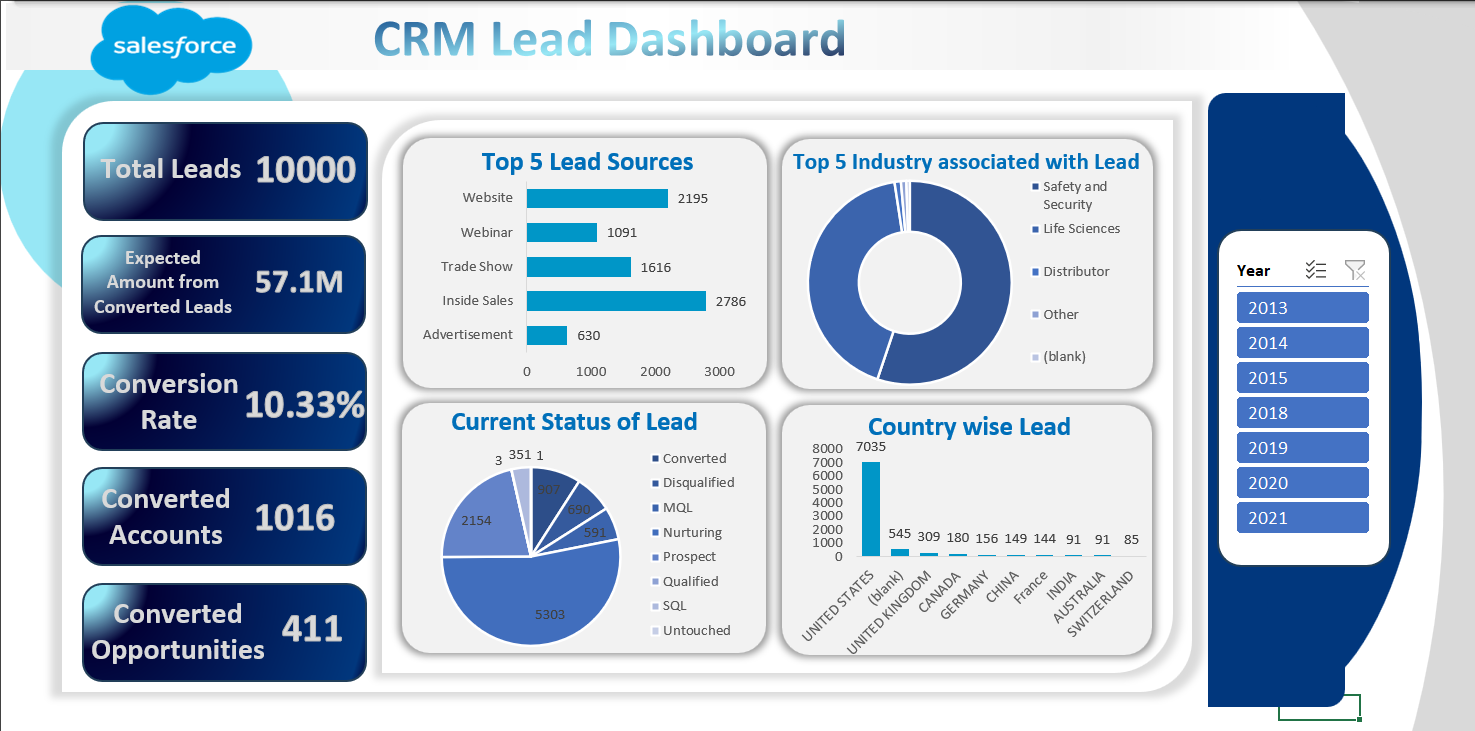

Layout of this report page (visuals, bound fields, positions):
{"tool":"powerbi","page":{"name":"Lead","canvas":[1280,720],"ordinal":1},"visuals":[{"type":"textbox","box":[16,13.6,603.7,81.5],"z":0},{"type":"card","title":"Total leads","fields":{"Values":["Count(Lead.Lead ID)"]},"box":[16,112.3,240,100],"z":1000},{"type":"card","title":"Converted Accounts","fields":{"Values":["Sum(Lead.Converted Accounts)"]},"box":[267.9,112.3,239.5,100],"z":2000},{"type":"card","title":"Converted Opportunities","fields":{"Values":["Sum(Lead.Converted Opportunities)"]},"box":[519.8,112.3,239.5,100],"z":3000},{"type":"barChart","title":"Lead by Lead Source","fields":{"Category":["Lead.Lead Source"],"Y":["CountNonNull(Lead.Lead ID)"]},"box":[354.3,227.2,450.6,477.8],"z":4000},{"type":"columnChart","title":"Lead by Industry","fields":{"Category":["Lead.Industry"],"Y":["CountNonNull(Lead.Lead ID)"]},"box":[819.8,227.2,445.7,477.8],"z":5000},{"type":"card","title":"Conversion Rate","fields":{"Values":["Lead.Conversion Rates"]},"box":[771.6,112.3,239.5,100],"z":6000},{"type":"slicer","fields":{"Values":["Lead.Year"]},"box":[639.5,13.6,180,81.5],"z":7000},{"type":"slicer","fields":{"Values":["Lead.Quarter"]},"box":[837,13.6,180.2,81.5],"z":8000},{"type":"pieChart","title":"Lead by Status","fields":{"Category":["Lead.Status"],"Y":["CountNonNull(Lead.Lead ID)"]},"box":[16,227.2,323.5,240.7],"z":9000},{"type":"donutChart","title":"Lead by Country","fields":{"Category":["Lead.Country"],"Y":["CountNonNull(Lead.Lead ID)"]},"box":[16,484,323.5,221],"z":10000},{"type":"card","title":"Expected Amount from Converted Leads","fields":{"Values":["Lead.Lead Expected amount"]},"box":[1025.9,112.3,239.5,100],"z":11000},{"type":"actionButton","box":[1034.6,13.6,230.9,81.5],"z":12000},{"type":"image","box":[13.6,0,119.8,103.7],"z":13000}]}

Visuals, with their boxes on the page's 1280x720 design canvas (x1, y1, x2, y2). These are canvas units, not pixel positions in the 1475x731 screenshot, which may show the page scaled, cropped or inside an application window:
textbox: {"x1": 16, "y1": 14, "x2": 620, "y2": 95}
"Total leads" card: {"x1": 16, "y1": 112, "x2": 256, "y2": 212}
"Converted Accounts" card: {"x1": 268, "y1": 112, "x2": 507, "y2": 212}
"Converted Opportunities" card: {"x1": 520, "y1": 112, "x2": 759, "y2": 212}
"Lead by Lead Source" barChart: {"x1": 354, "y1": 227, "x2": 805, "y2": 705}
"Lead by Industry" columnChart: {"x1": 820, "y1": 227, "x2": 1266, "y2": 705}
"Conversion Rate" card: {"x1": 772, "y1": 112, "x2": 1011, "y2": 212}
slicer - Lead.Year: {"x1": 640, "y1": 14, "x2": 820, "y2": 95}
slicer - Lead.Quarter: {"x1": 837, "y1": 14, "x2": 1017, "y2": 95}
"Lead by Status" pieChart: {"x1": 16, "y1": 227, "x2": 340, "y2": 468}
"Lead by Country" donutChart: {"x1": 16, "y1": 484, "x2": 340, "y2": 705}
"Expected Amount from Converted Leads" card: {"x1": 1026, "y1": 112, "x2": 1265, "y2": 212}
actionButton: {"x1": 1035, "y1": 14, "x2": 1266, "y2": 95}
image: {"x1": 14, "y1": 0, "x2": 133, "y2": 104}
